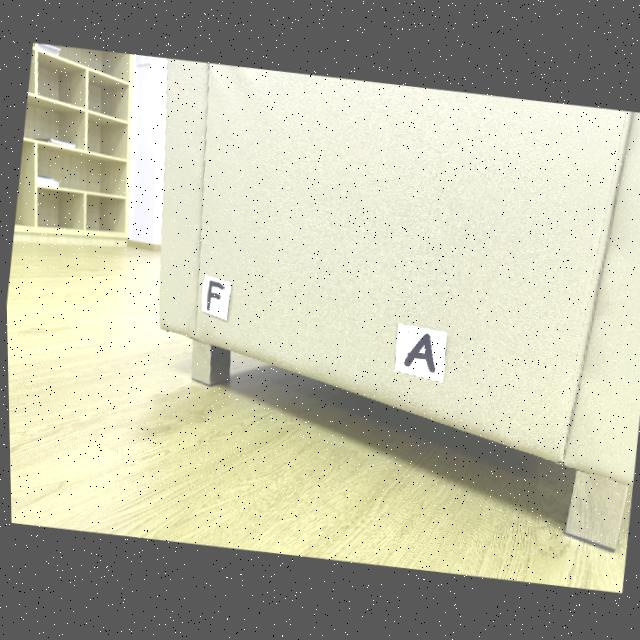A: (402, 335, 433, 374)
F: (205, 281, 222, 311)
